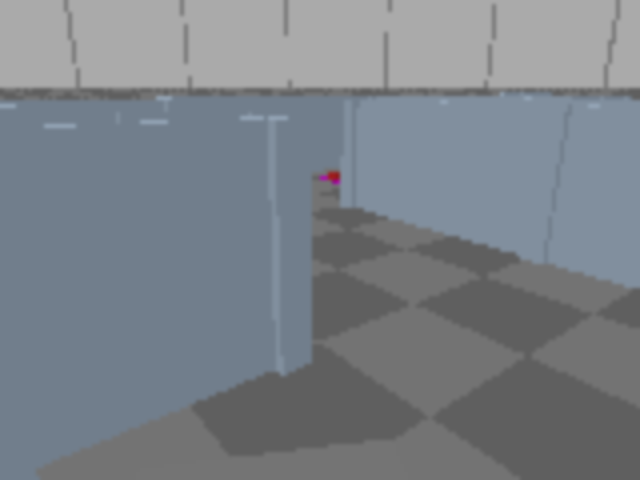obstacle: (91, 439, 456, 478)
